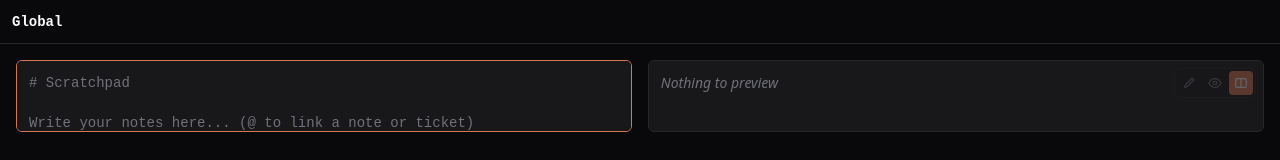
ScratchpadMainView — mention autocomplete › offers a ticket once a query narrows it
Replace the text in the text box with "@token" at (324, 96), box [16, 60, 632, 132]
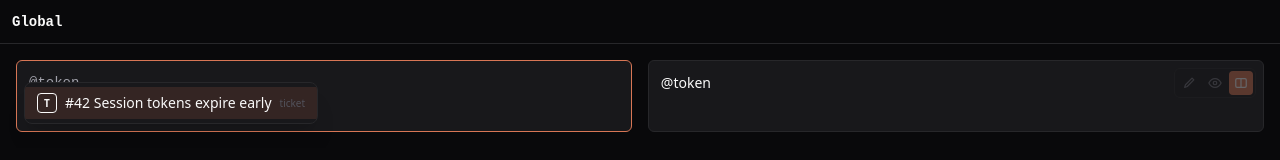
Expected: the text "#42 Session tokens expire early" is shown, [65, 93, 272, 113]
